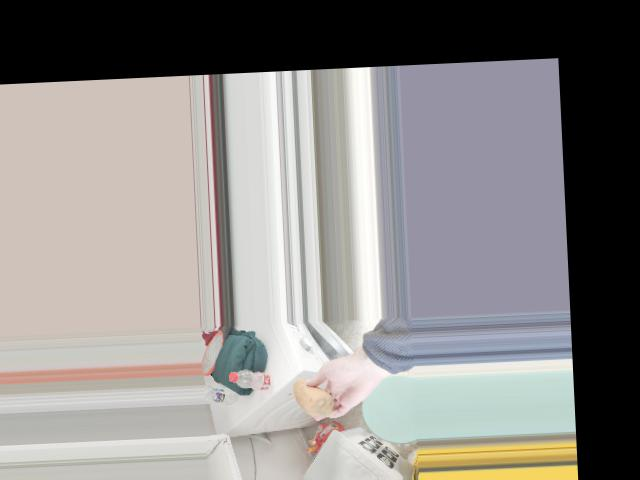sweet_potato: (292, 373, 339, 414)
